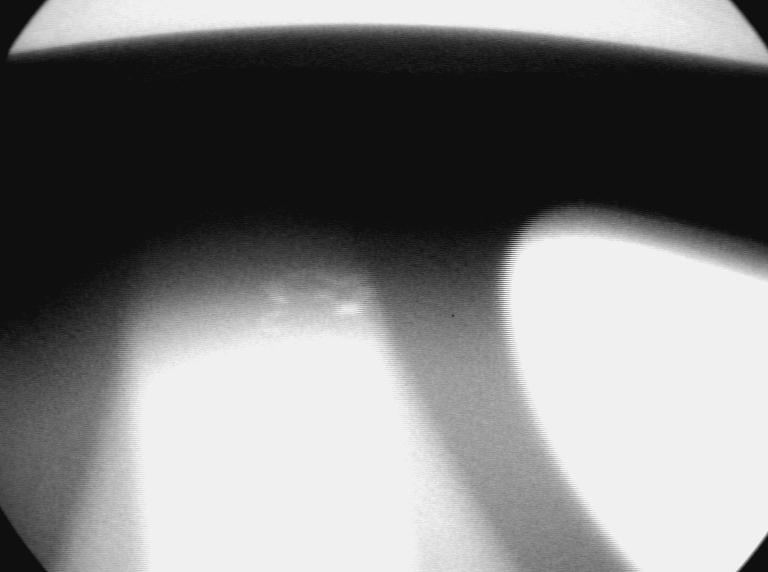defect: (255, 305, 287, 339)
